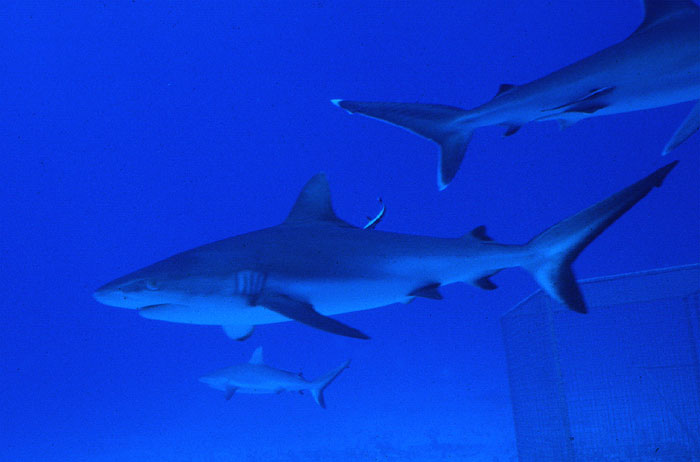Carcharhinus_amblyrhynchos: (80, 173, 686, 345), (322, 1, 700, 190), (194, 344, 357, 416)
